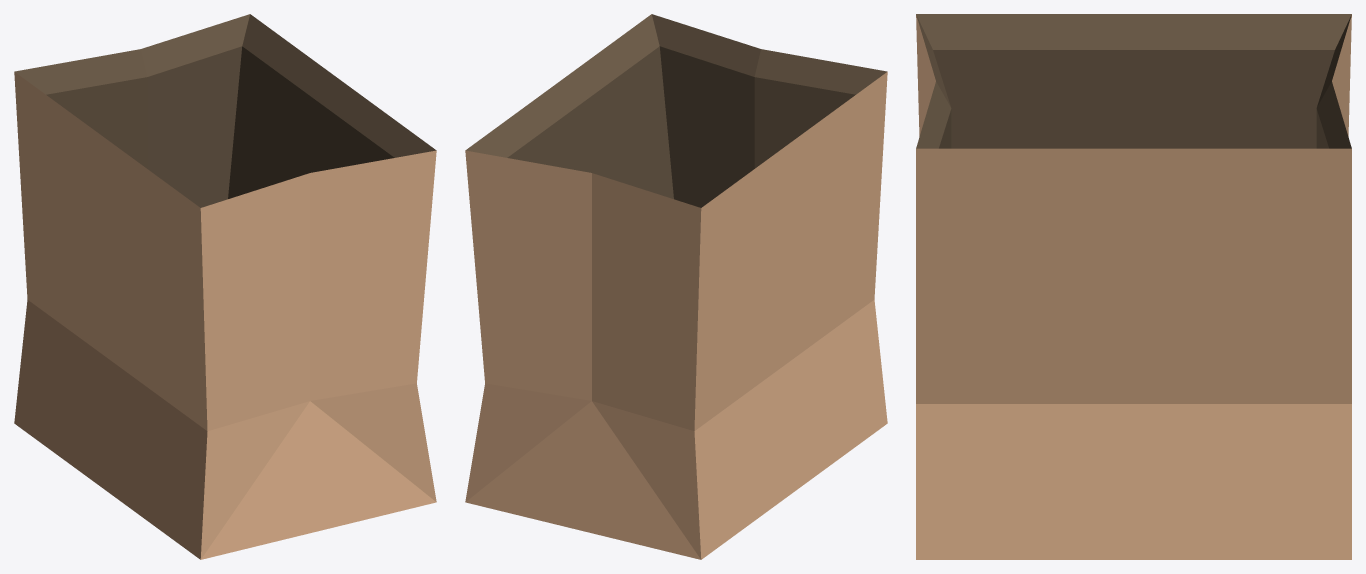
Rendered from PaperSack.fbx.
The picture shows the model from 3 angles, left to right: view 1: azimuth 30°, elevation 25°; view 2: azimuth 150°, elevation 25°; view 3: azimuth 270°, elevation 25°; orthographic projection. The views are drawn at different scales.
Visible parts, largest first — view 1: Cube; view 2: Cube; view 3: Cube.
Part boxes in pixels (x1,y1,x2,y2): Cube: [14, 14, 436, 559]; Cube: [465, 14, 887, 559]; Cube: [916, 14, 1351, 559].
Size of the model in its own units: 39.62 by 56.46 by 54.22.
